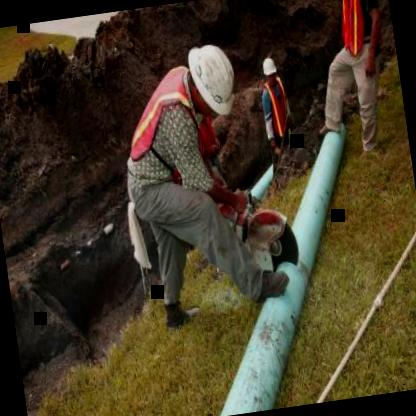helmet: (181, 37, 242, 121), (260, 52, 282, 86)
